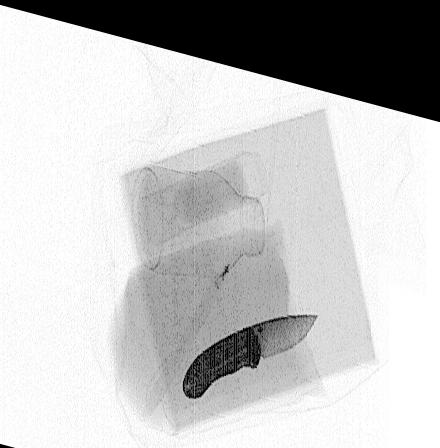Knife: (181, 293, 322, 393)
